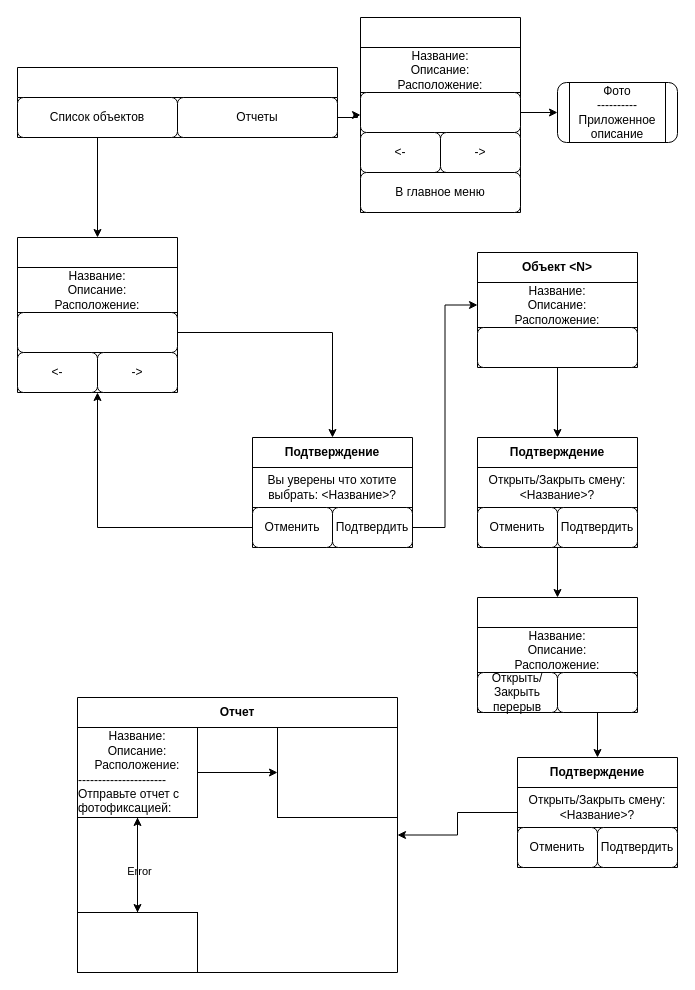
Some shapes in this 695 by 990 pixel diagram are drawn without their labels. The shapes that lost their labels are listed below. From the top down, each one's box as (x1, y1, x2, y2) in pixels, then its label:
(16, 66, 338, 138): Главное меню
(360, 92, 520, 132): Приложенные документы
(360, 16, 520, 212): Список отчетов
(16, 236, 178, 392): Список доступных объектов
(16, 312, 178, 352): Выбрать
(476, 326, 638, 368): Открыть смену
(476, 596, 638, 712): Объект
(556, 672, 638, 712): Закрыть смену
(276, 726, 398, 818): Отчет успешно отправлен!
(76, 912, 198, 972): Прикрепите фото и описание
